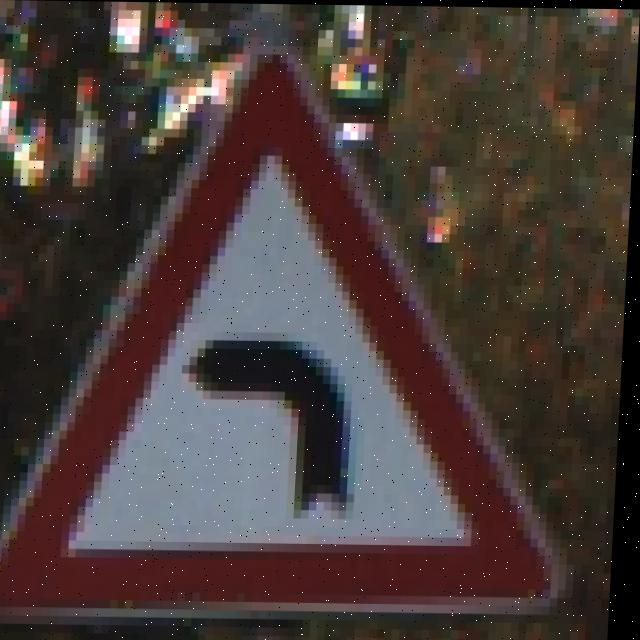left_turn: (0, 77, 609, 606)
